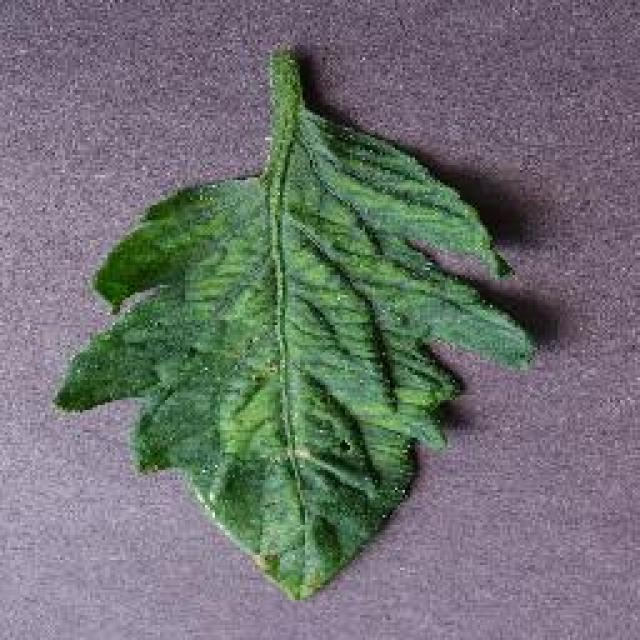Tomato___Tomato_mosaic_virus: (55, 50, 532, 595)
